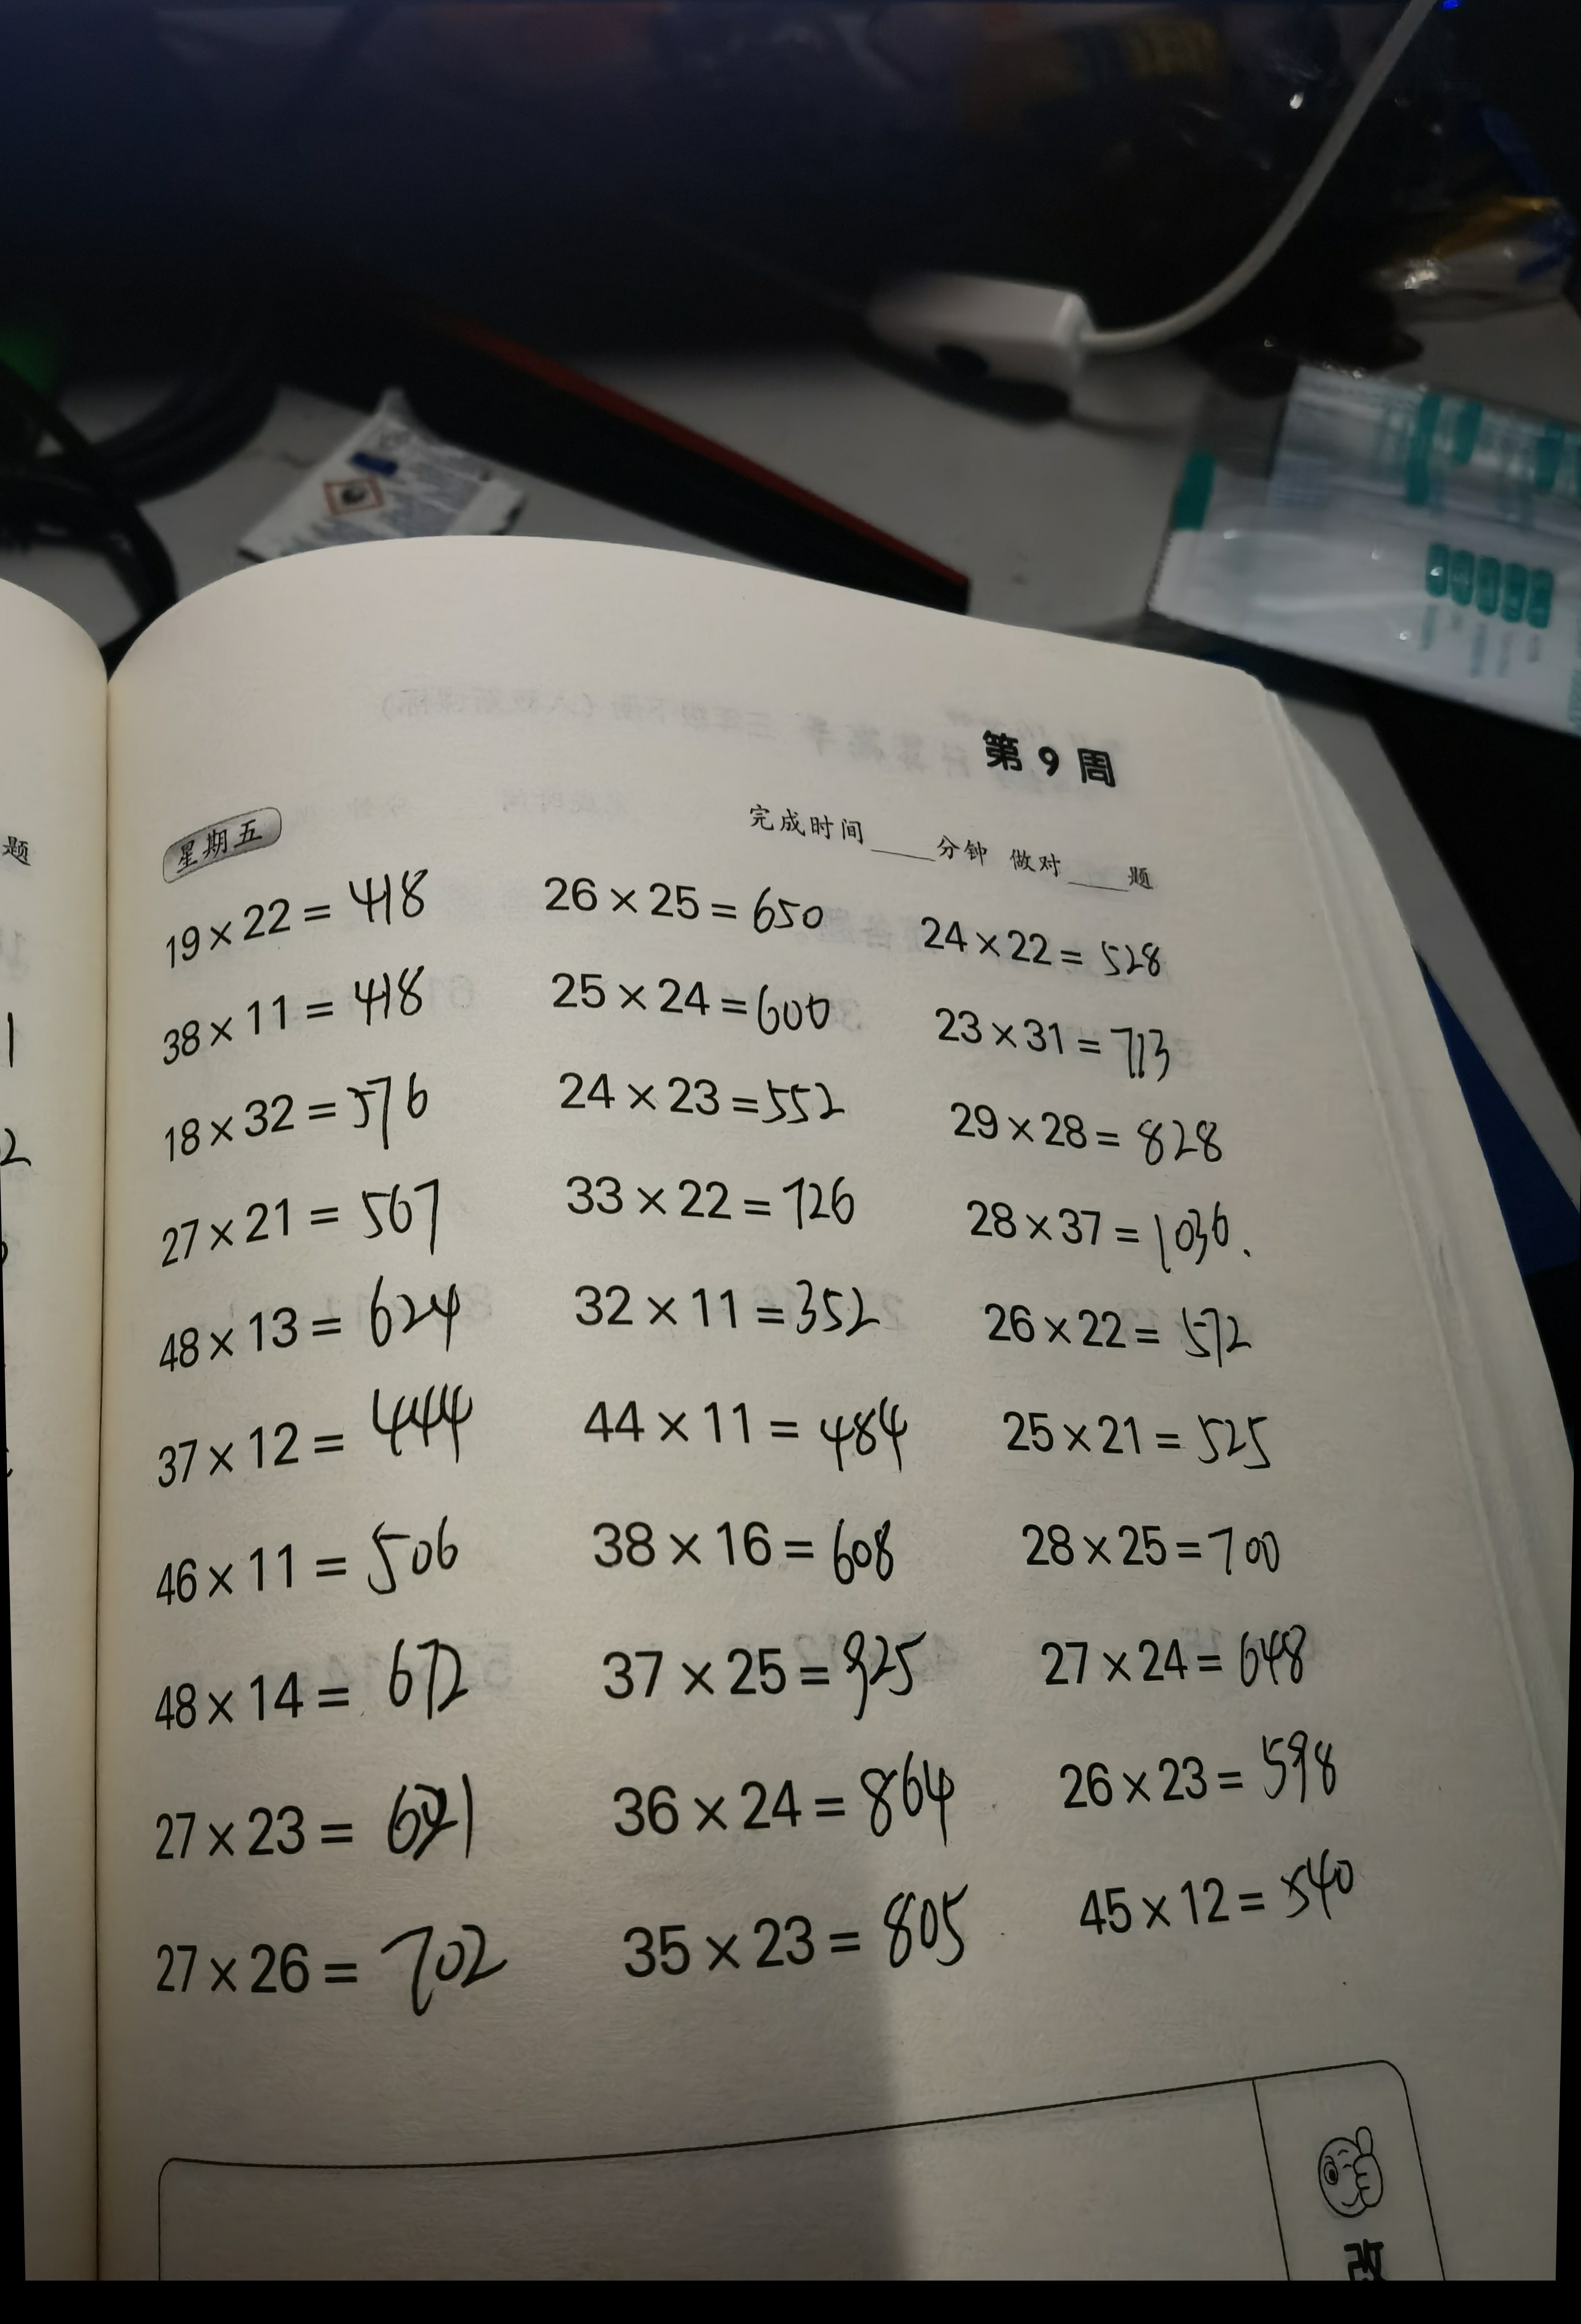equation: (620, 1885, 1022, 2000), (612, 1752, 1011, 1861), (147, 1499, 488, 1621), (116, 1918, 515, 2021), (137, 1385, 500, 1494), (571, 1615, 936, 1720), (526, 827, 838, 944), (1059, 1842, 1372, 1957), (125, 1771, 507, 1865), (134, 962, 497, 1061), (994, 1376, 1296, 1490), (558, 1382, 923, 1476), (126, 857, 471, 954), (902, 883, 1229, 983), (143, 1638, 495, 1730), (937, 1073, 1237, 1179), (153, 1275, 504, 1366), (555, 1264, 903, 1354), (142, 1067, 497, 1156), (1016, 1602, 1327, 1697), (559, 1160, 886, 1249), (1035, 1719, 1361, 1808), (532, 957, 840, 1049), (568, 1511, 922, 1586), (136, 1174, 478, 1249), (905, 994, 1207, 1078), (966, 1283, 1291, 1361), (939, 1194, 1249, 1266), (997, 1520, 1340, 1584), (545, 1062, 854, 1131)
